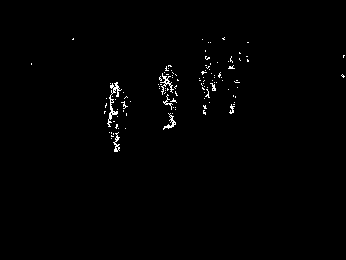person: (103, 81, 129, 155), (158, 63, 180, 129)
